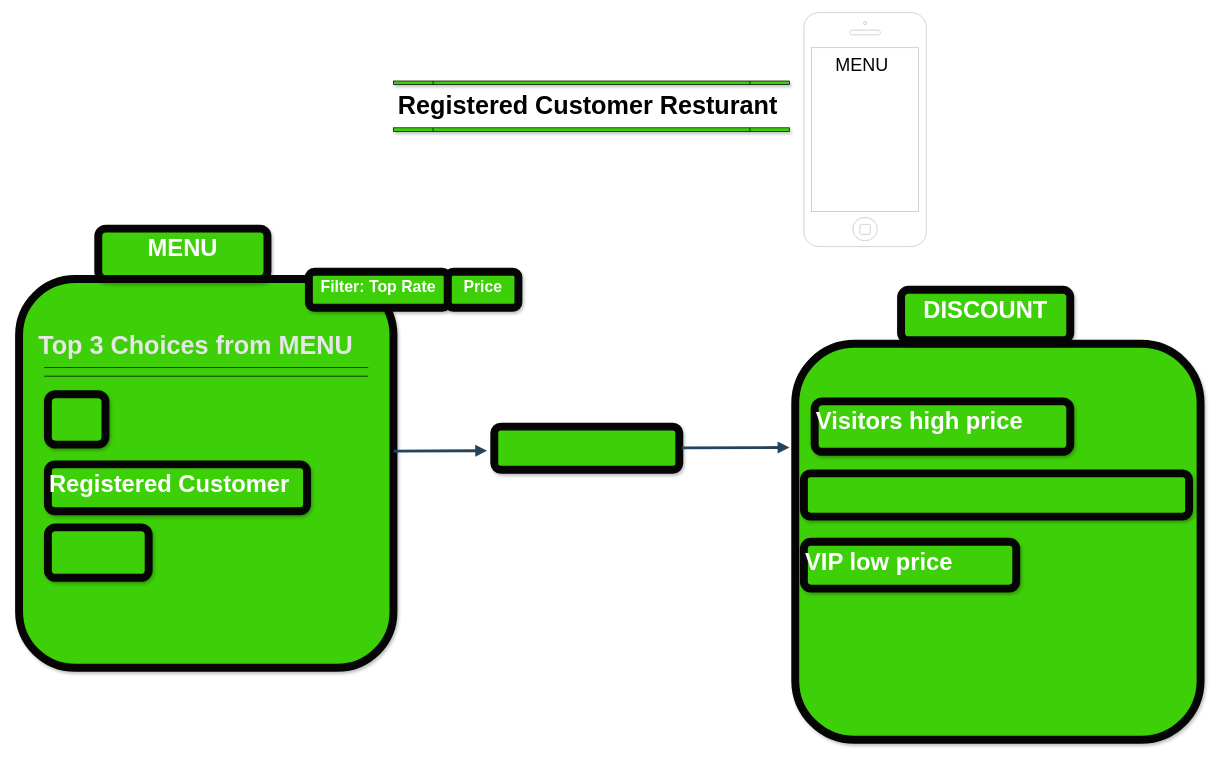
The diagram is 1221 pixels wide and 761 high, and some of its shapes have lost their labels. The shapes that lost their labels are listed below. From the top down, each one's centre as x and y in pixels, then its label:
At point (77, 420): "VIP".
At point (587, 448): "MENU PRICES".
At point (997, 495): "Registered Customer medium price".
At point (99, 553): "Visitors".
